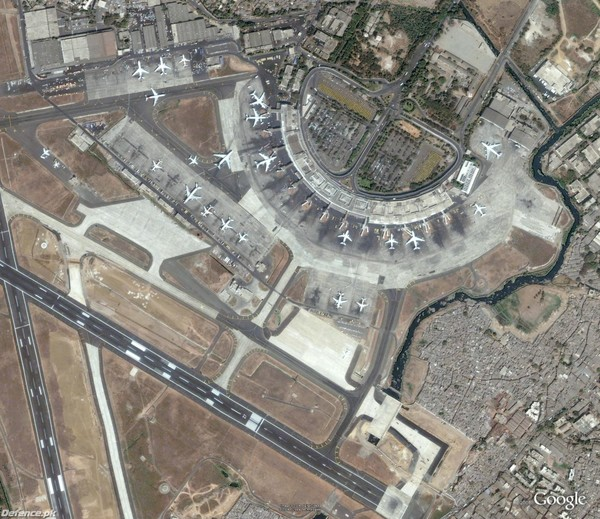aircraft: (252, 150, 278, 175), (143, 86, 168, 107), (248, 89, 270, 111), (479, 139, 501, 161), (182, 182, 204, 204), (213, 150, 236, 171), (243, 109, 268, 128), (153, 55, 172, 75), (406, 231, 424, 251), (336, 229, 354, 247), (133, 61, 148, 81), (385, 232, 399, 252), (333, 291, 347, 311), (472, 202, 488, 218), (221, 214, 233, 234), (178, 53, 191, 68), (355, 298, 368, 313), (151, 158, 164, 171), (187, 153, 199, 167), (202, 204, 214, 218), (236, 231, 247, 244), (41, 148, 51, 159)
